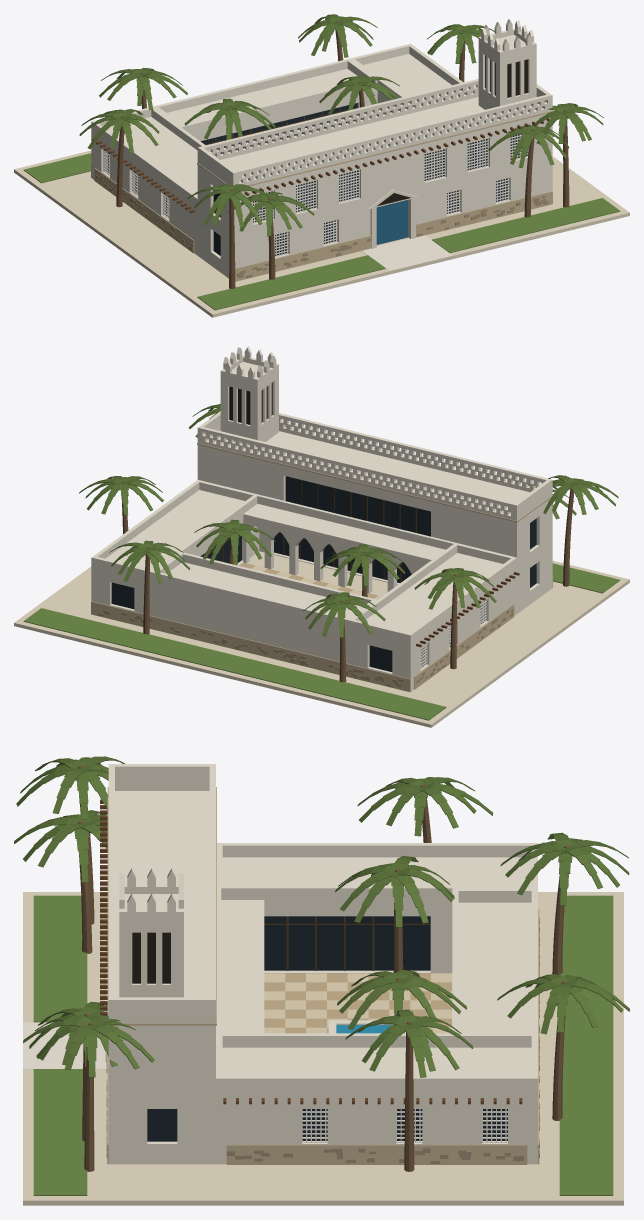
File: eastern.glb
3 views of the same model, one above another, from view 1: azimuth 30°, elevation 25°; view 2: azimuth 150°, elevation 25°; view 3: azimuth 270°, elevation 25° (orthographic). The views are drawn at different scales.
Visible parts, largest first — view 1: Eastern_gypsum, Eastern_pave, Eastern_leaf, Eastern_lawn, Eastern_coral, Eastern_screen, Eastern_glass, Eastern_trunk, Eastern_coping, Eastern_door, Eastern_wood, Eastern_coral_dark (+1 smaller); view 2: Eastern_gypsum, Eastern_pave, Eastern_leaf, Eastern_lawn, Eastern_glass, Eastern_coral, Eastern_trunk, Eastern_coral_dark, Eastern_shadow, Eastern_frame; view 3: Eastern_gypsum, Eastern_pave, Eastern_lawn, Eastern_leaf, Eastern_glass, Eastern_coral, Eastern_trunk, Eastern_court_a, Eastern_court_b, Eastern_coping, Eastern_wood, Eastern_screen (+3 smaller).
Boxes of the visible parts, x1,y1,x2,y2 form: Eastern_gypsum: [91, 19, 552, 278]; Eastern_pave: [14, 150, 629, 317]; Eastern_leaf: [79, 14, 603, 236]; Eastern_lawn: [23, 153, 620, 310]; Eastern_coral: [91, 110, 552, 281]; Eastern_screen: [103, 133, 528, 256]; Eastern_glass: [106, 103, 527, 255]; Eastern_trunk: [116, 20, 569, 288]; Eastern_coping: [361, 235, 452, 271]; Eastern_door: [376, 200, 408, 244]; Eastern_wood: [91, 118, 549, 213]; Eastern_coral_dark: [95, 175, 548, 278]; Eastern_gypsum: [91, 346, 552, 691]; Eastern_pave: [14, 551, 629, 727]; Eastern_leaf: [79, 403, 618, 637]; Eastern_lawn: [23, 563, 620, 720]; Eastern_glass: [111, 476, 536, 671]; Eastern_coral: [91, 443, 552, 692]; Eastern_trunk: [121, 481, 574, 682]; Eastern_coral_dark: [97, 609, 514, 687]; Eastern_shadow: [229, 382, 272, 424]; Eastern_frame: [204, 480, 416, 582]; Eastern_gypsum: [105, 764, 537, 1164]; Eastern_pave: [23, 892, 623, 1205]; Eastern_lawn: [33, 895, 613, 1195]; Eastern_leaf: [14, 756, 629, 1077]; Eastern_glass: [147, 916, 507, 1141]; Eastern_coral: [107, 787, 539, 1164]; Eastern_trunk: [78, 765, 568, 1171]; Eastern_court_a: [264, 973, 451, 1033]; Eastern_court_b: [264, 973, 451, 1033]; Eastern_coping: [23, 1020, 405, 1069]; Eastern_wood: [100, 799, 522, 1104]; Eastern_screen: [302, 1109, 507, 1142].
Bounding box in the file's own units: 34.09 × 13.6 × 28.69.
